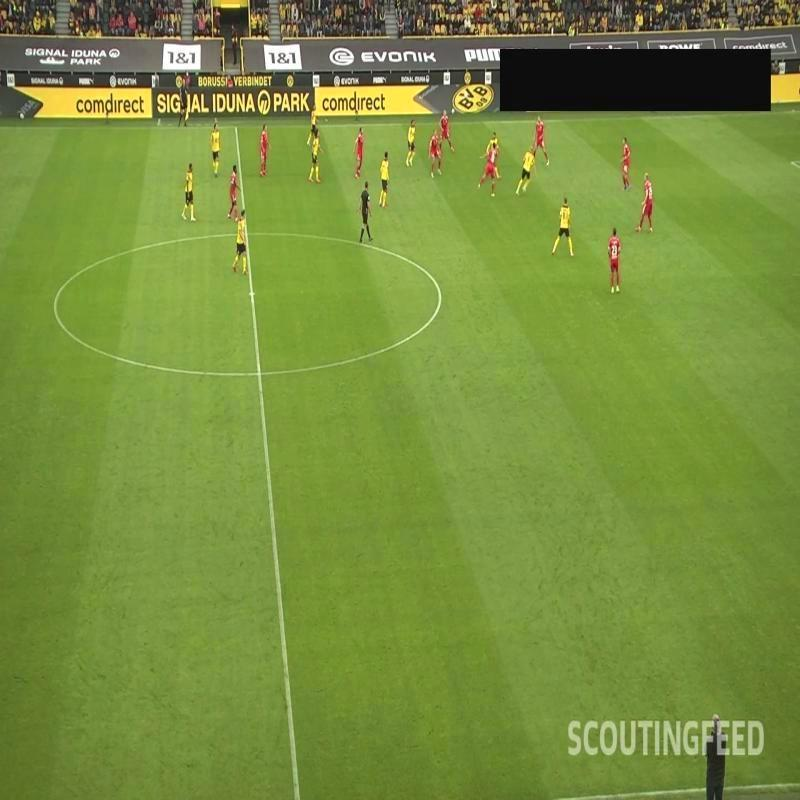13: (230, 119, 244, 134)
14: (238, 226, 251, 240)
15: (252, 365, 268, 383)
2: (638, 111, 652, 125)
9: (785, 154, 799, 168)
c: (42, 294, 68, 320), (432, 288, 446, 302)
